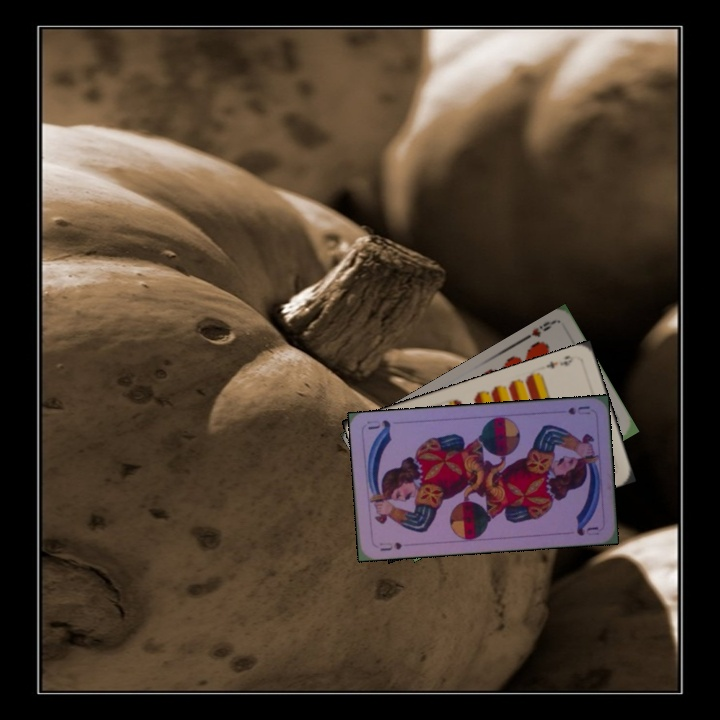E9: (542, 351, 576, 371)
H9: (520, 317, 557, 343)
SU: (376, 538, 404, 554), (564, 402, 593, 417)
